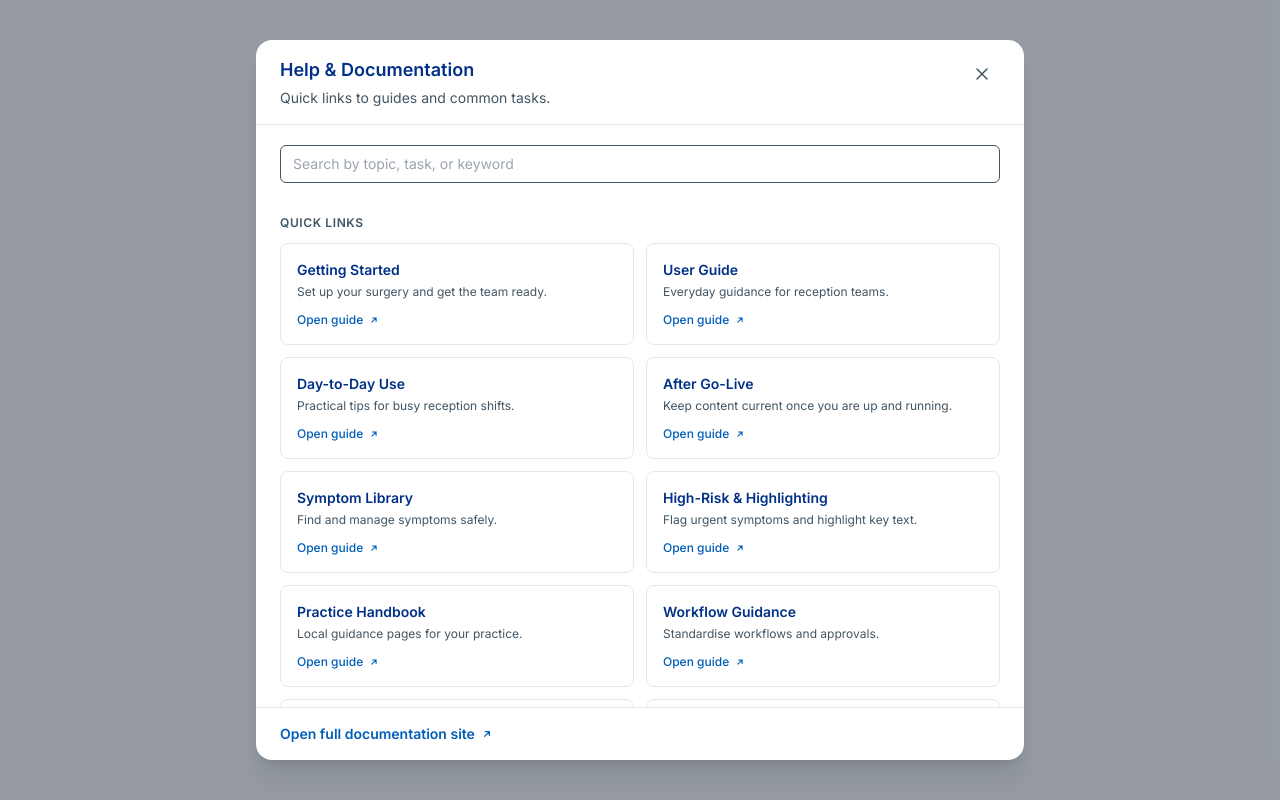
Scenario: HelpPanel › filters links by keyword search
Type "changelog" into the search field named "Search help links" at (640, 164), box [280, 145, 1000, 183]
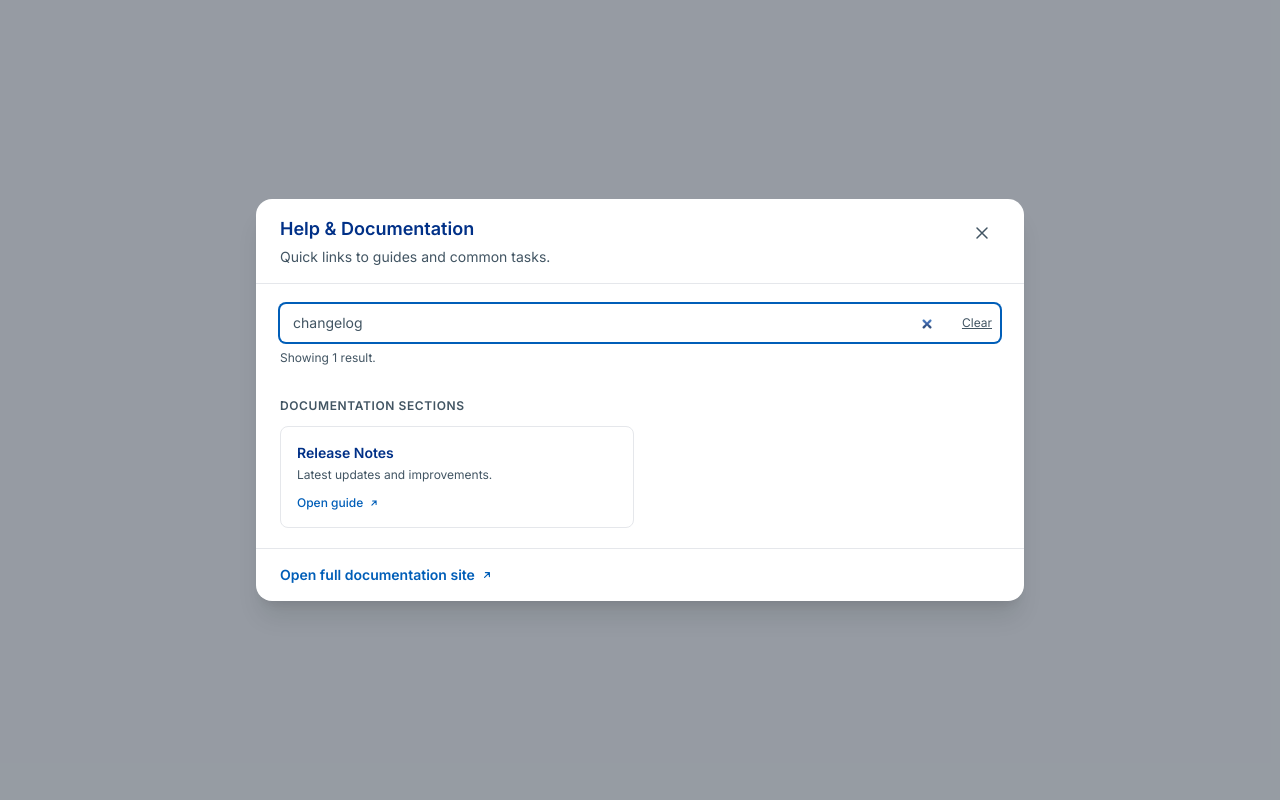
Check: the link "Release Notes Latest updates and improvements. Open guide" is shown, box [297, 444, 492, 510]
Check: the link "Symptom Library" is gone
